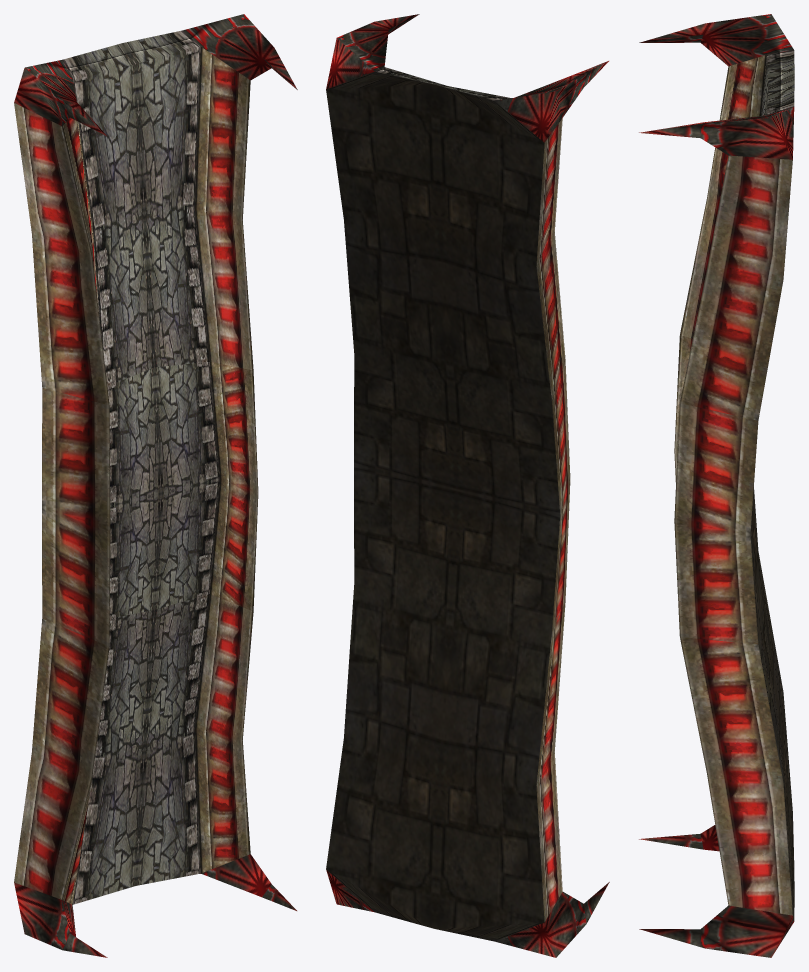
The model's file is bridge_08.obj.
The picture shows the model from 3 angles, left to right: view 1: azimuth 30°, elevation 25°; view 2: azimuth 150°, elevation 25°; view 3: azimuth 270°, elevation 25°; orthographic projection. The views are drawn at different scales.
Parts seen in each view (by area): view 1: (null); view 2: (null); view 3: (null).
Boxes of the visible parts, x1,y1,x2,y2 form: (null): (14, 14, 297, 957); (null): (326, 14, 609, 957); (null): (639, 14, 794, 957).
Size of the model in its own units: 2.04 by 7.69 by 1.3.
